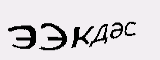Е: (39, 11, 54, 38)
Ж: (73, 10, 98, 38)
П: (54, 12, 74, 36)
Ч: (25, 13, 42, 37)
Ш: (98, 12, 127, 40)
